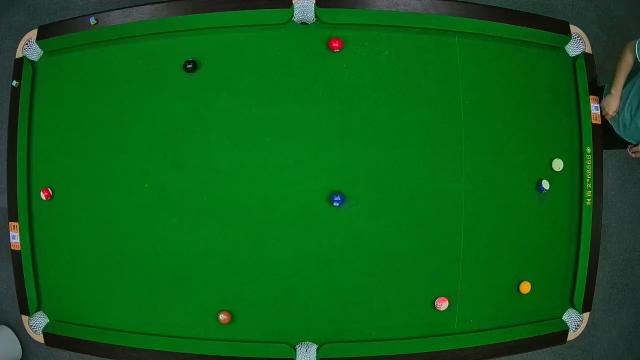bag1: (20, 40, 42, 62)
bag2: (292, 2, 316, 26)
bag3: (566, 36, 586, 58)
bag4: (29, 311, 49, 333)
bag5: (294, 340, 318, 360)
bag6: (562, 308, 582, 330)
ball0: (551, 158, 565, 170)
ball1: (518, 280, 534, 296)
ball10: (535, 178, 551, 194)
ball11: (38, 186, 52, 202)
ball12: (436, 297, 448, 311)
ball2: (331, 192, 345, 207)
ball3: (329, 36, 343, 50)
ball7: (217, 309, 233, 325)
ball8: (183, 58, 199, 74)
